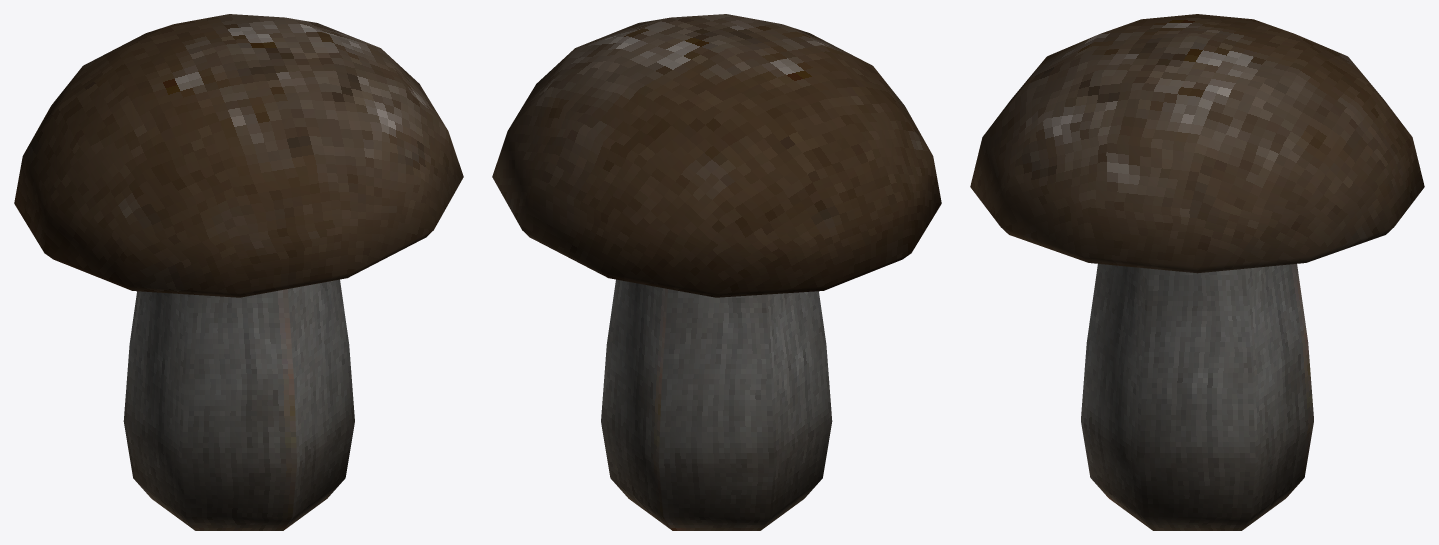
File: mushroom_n_2_1.glb
The picture shows the model from 3 angles, left to right: view 1: azimuth 30°, elevation 25°; view 2: azimuth 150°, elevation 25°; view 3: azimuth 270°, elevation 25°; orthographic projection.
Parts seen in each view (by area): view 1: mushroom_n_2_1; view 2: mushroom_n_2_1; view 3: mushroom_n_2_1.
Part boxes in pixels (x1,y1,x2,y2): mushroom_n_2_1: (14,14,463,530); mushroom_n_2_1: (492,14,941,530); mushroom_n_2_1: (970,14,1424,530).
Size of the model in its own units: 0.1974 by 0.2197 by 0.198.
1 material, 1 textured.
